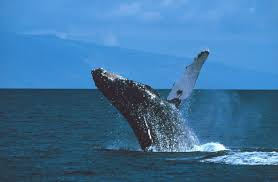humpback: (91, 69, 201, 146)
